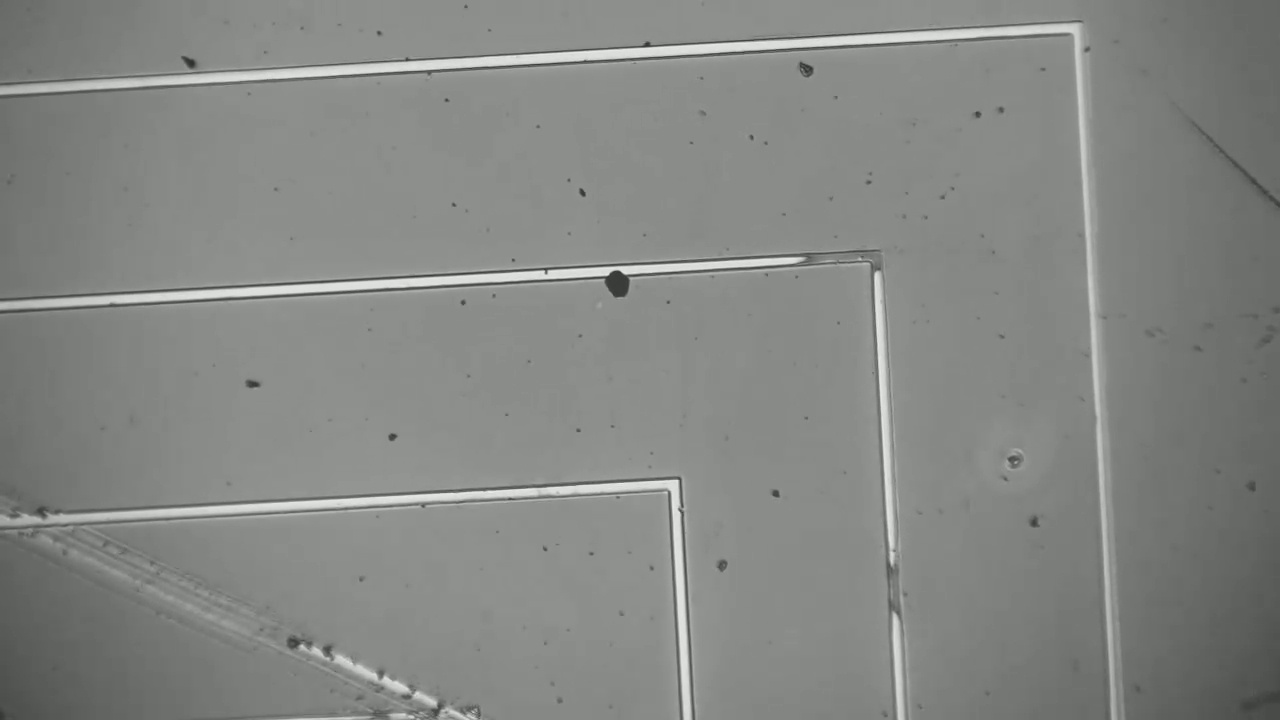edge_bite: (663, 502, 688, 522)
gray_line: (788, 246, 902, 269), (880, 546, 908, 632), (865, 242, 888, 289)
scratch: (1, 506, 477, 718), (1157, 93, 1277, 200)
stains_enbedded: (597, 255, 636, 311)
